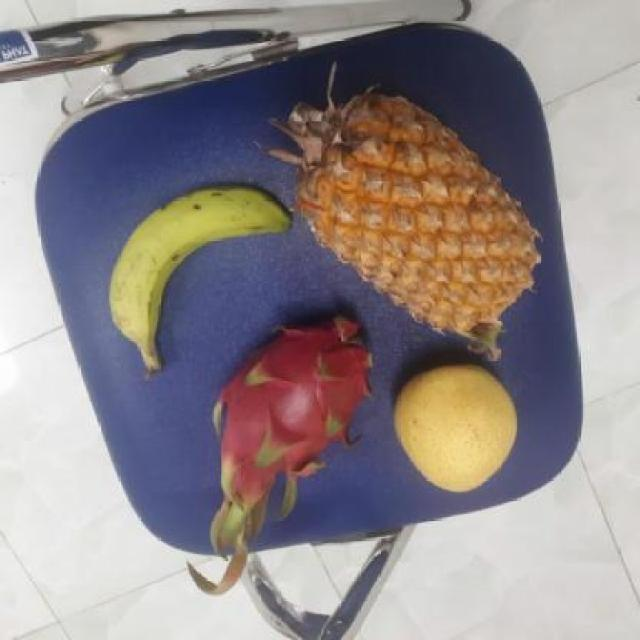banana: (105, 183, 290, 371)
dragon fruit: (210, 315, 376, 493)
pear: (384, 363, 518, 491)
pineapple: (282, 95, 526, 338)
